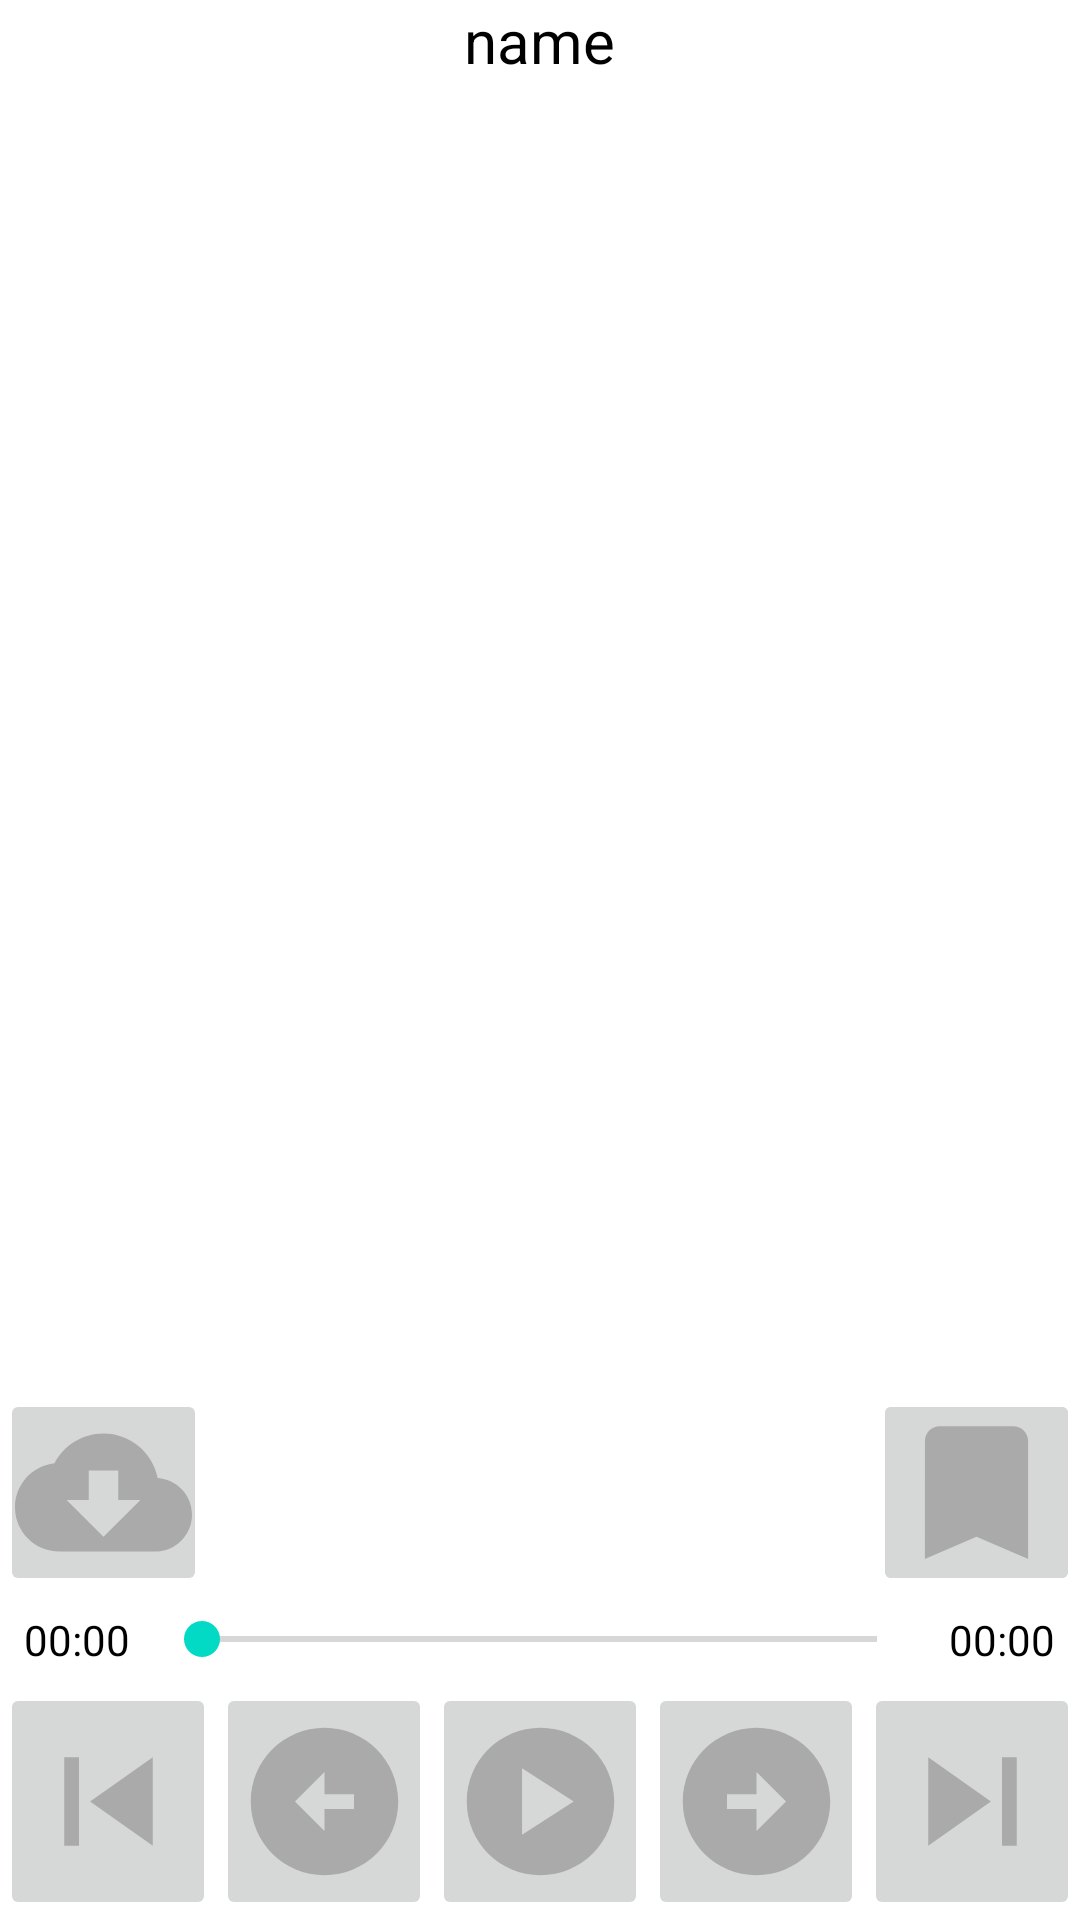

Icon bounding boxes for this 1080 × 1920 phone screenshot, format (x1, y1, x2, y2):
arrow circle left: (228, 1701, 420, 1902)
arrow circle right: (660, 1701, 852, 1902)
cloud download: (12, 1407, 195, 1578)
play circle: (444, 1701, 636, 1902)
skip next: (876, 1701, 1068, 1902)
skip previous: (12, 1701, 204, 1902)
